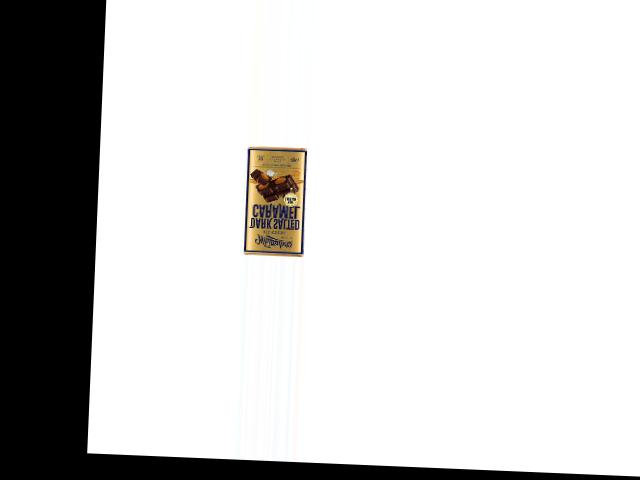chocolate: (241, 143, 312, 256)
